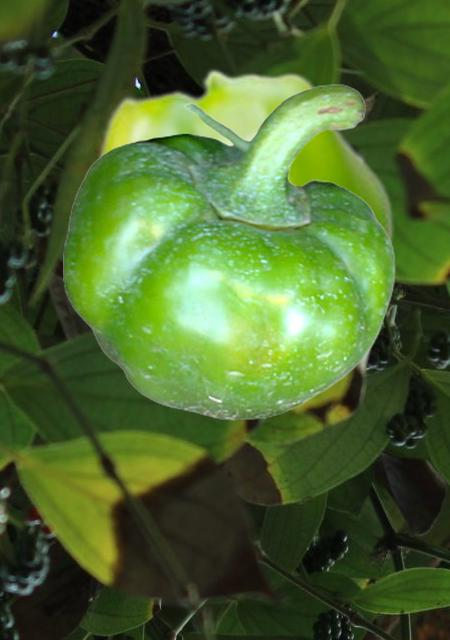bell_pepper: (63, 83, 394, 419), (98, 68, 393, 242)
